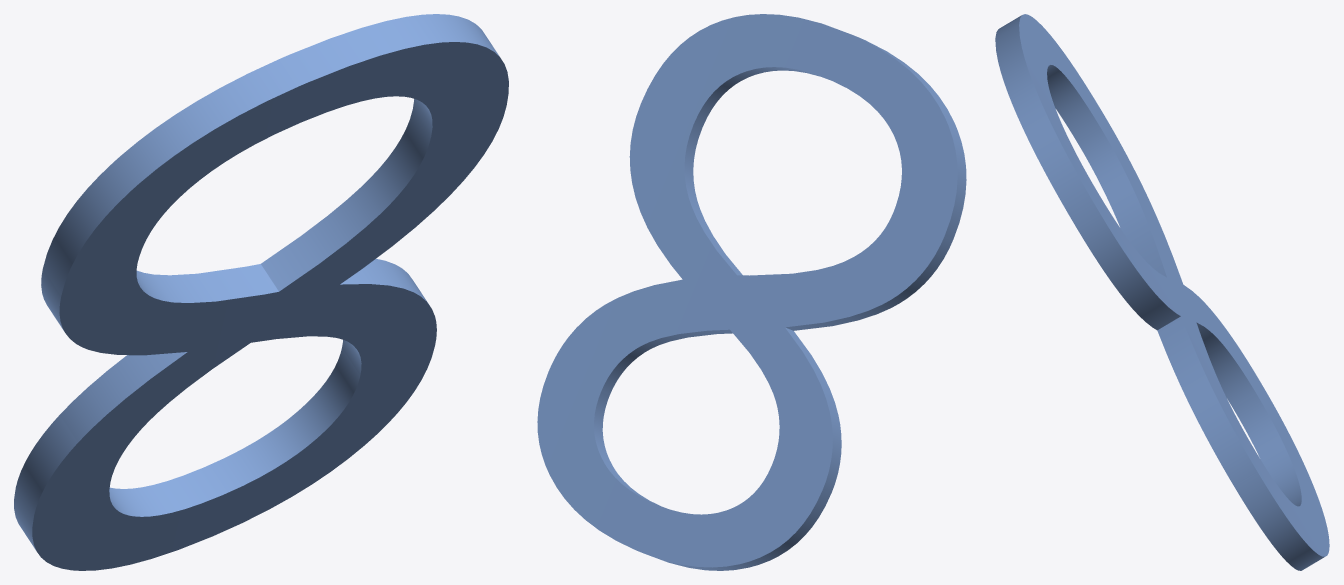
File: New_Number_8.gltf
3 views of the same model, side by side, from view 1: azimuth 30°, elevation 25°; view 2: azimuth 150°, elevation 25°; view 3: azimuth 270°, elevation 25° (orthographic). The views are drawn at different scales.
Parts seen in each view (by area): view 1: Part 35; view 2: Part 35; view 3: Part 35.
Part boxes in pixels (x1=…): Part 35: x1=14, y1=14, x2=508, y2=570; Part 35: x1=537, y1=14, x2=966, y2=570; Part 35: x1=995, y1=14, x2=1329, y2=570.
Bounding box in the file's own units: 0.00387 × 0.00506 × 0.00305.
